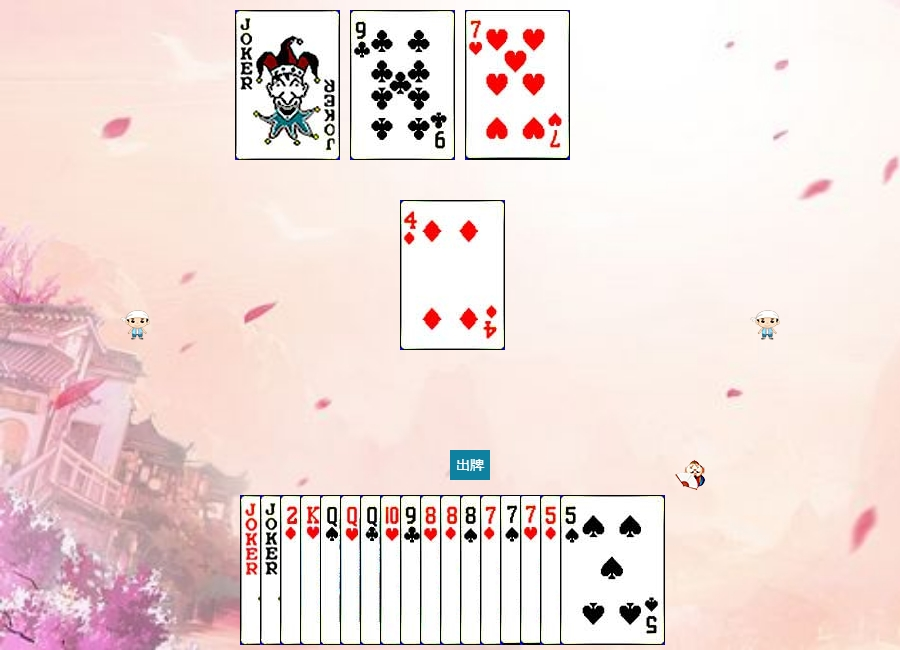10~3: (380, 495, 485, 645)
12~2: (360, 495, 465, 645)
12~3: (340, 495, 445, 645)
12~4: (320, 495, 425, 645)
13~3: (300, 495, 405, 645)
15~1: (280, 495, 385, 645)
17~3: (235, 10, 340, 160), (260, 495, 365, 645)
18~4: (240, 495, 345, 645)
4~1: (400, 200, 505, 350)
5~1: (540, 495, 645, 645)
5~4: (560, 495, 665, 645)
7~1: (480, 495, 585, 645)
7~3: (465, 10, 570, 160), (520, 495, 625, 645)
7~4: (500, 495, 605, 645)
8~1: (440, 495, 545, 645)
8~3: (420, 495, 525, 645)
8~4: (460, 495, 565, 645)
9~2: (350, 10, 455, 160), (400, 495, 505, 645)
